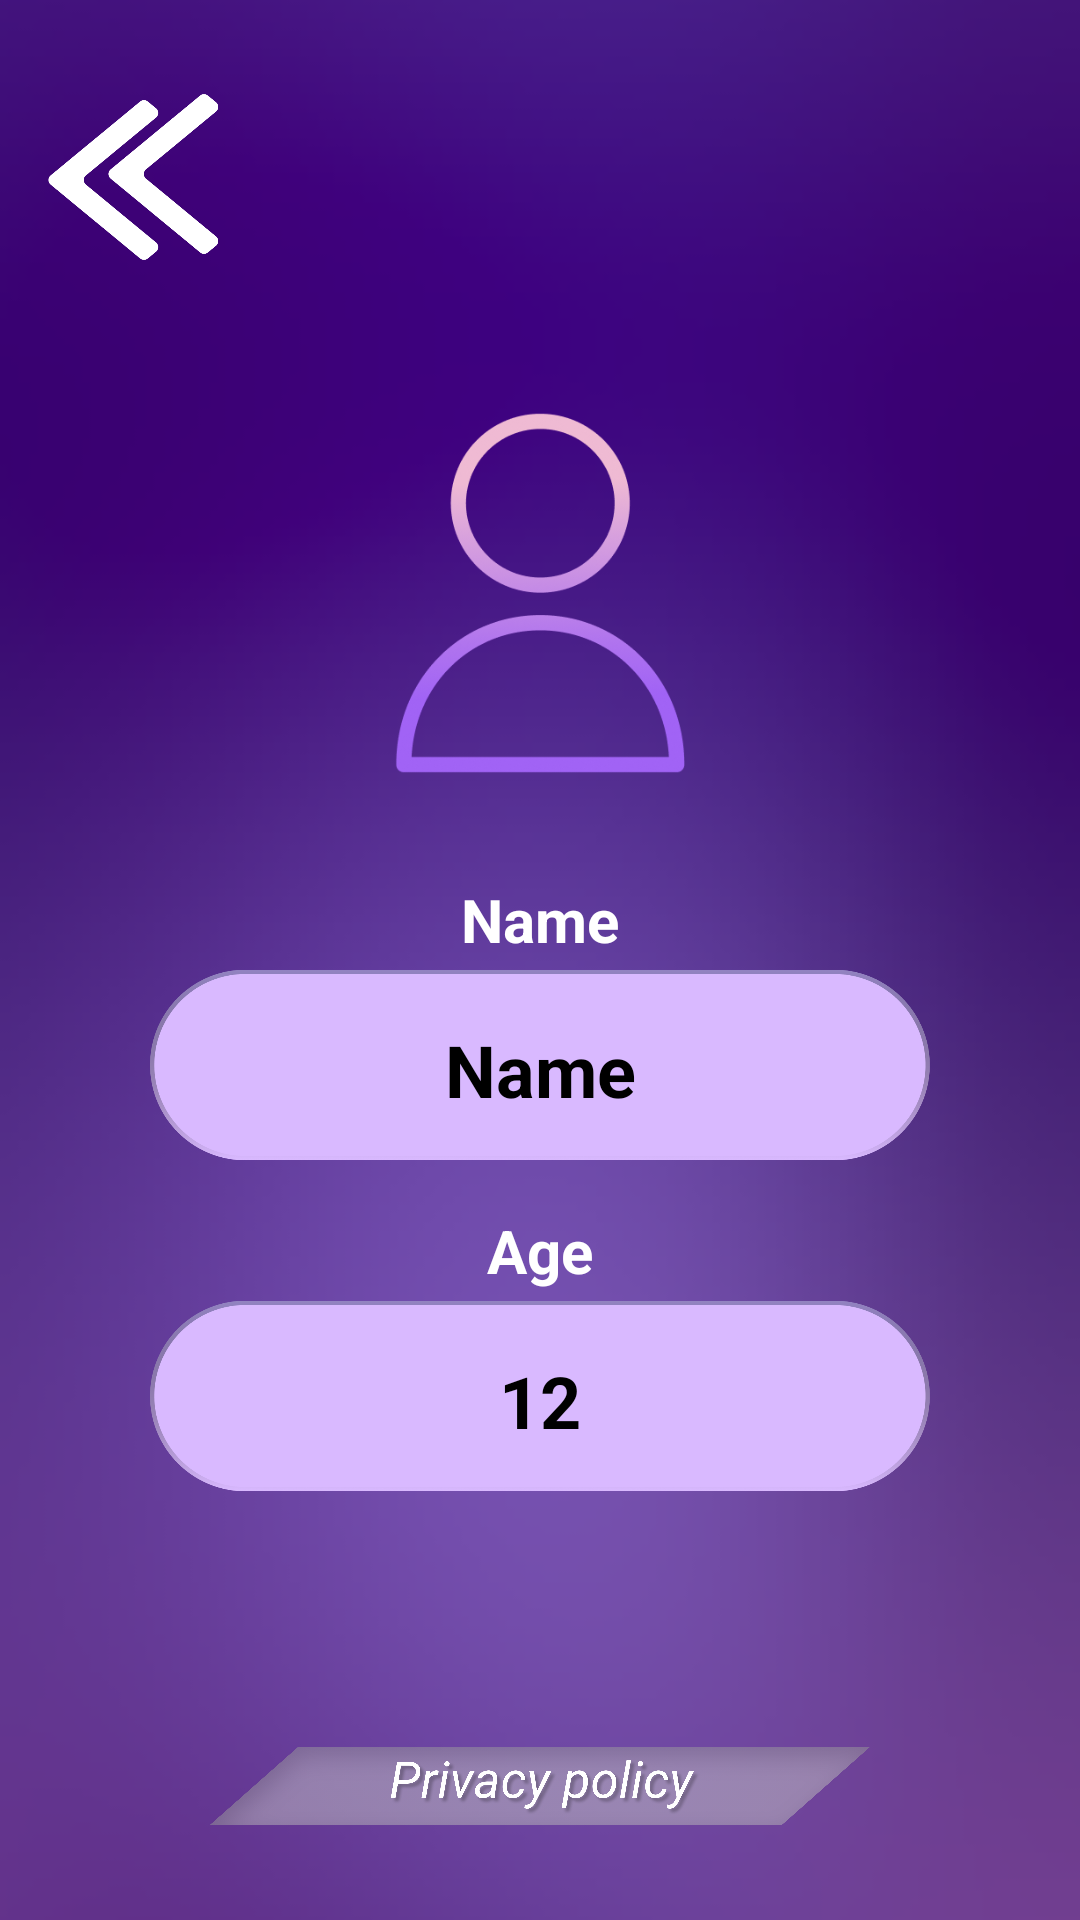

Where icons sit on this 1080px×1920px app screen, as Rect(x1, y1, x2, y2):
exit: Rect(48, 94, 218, 260)
